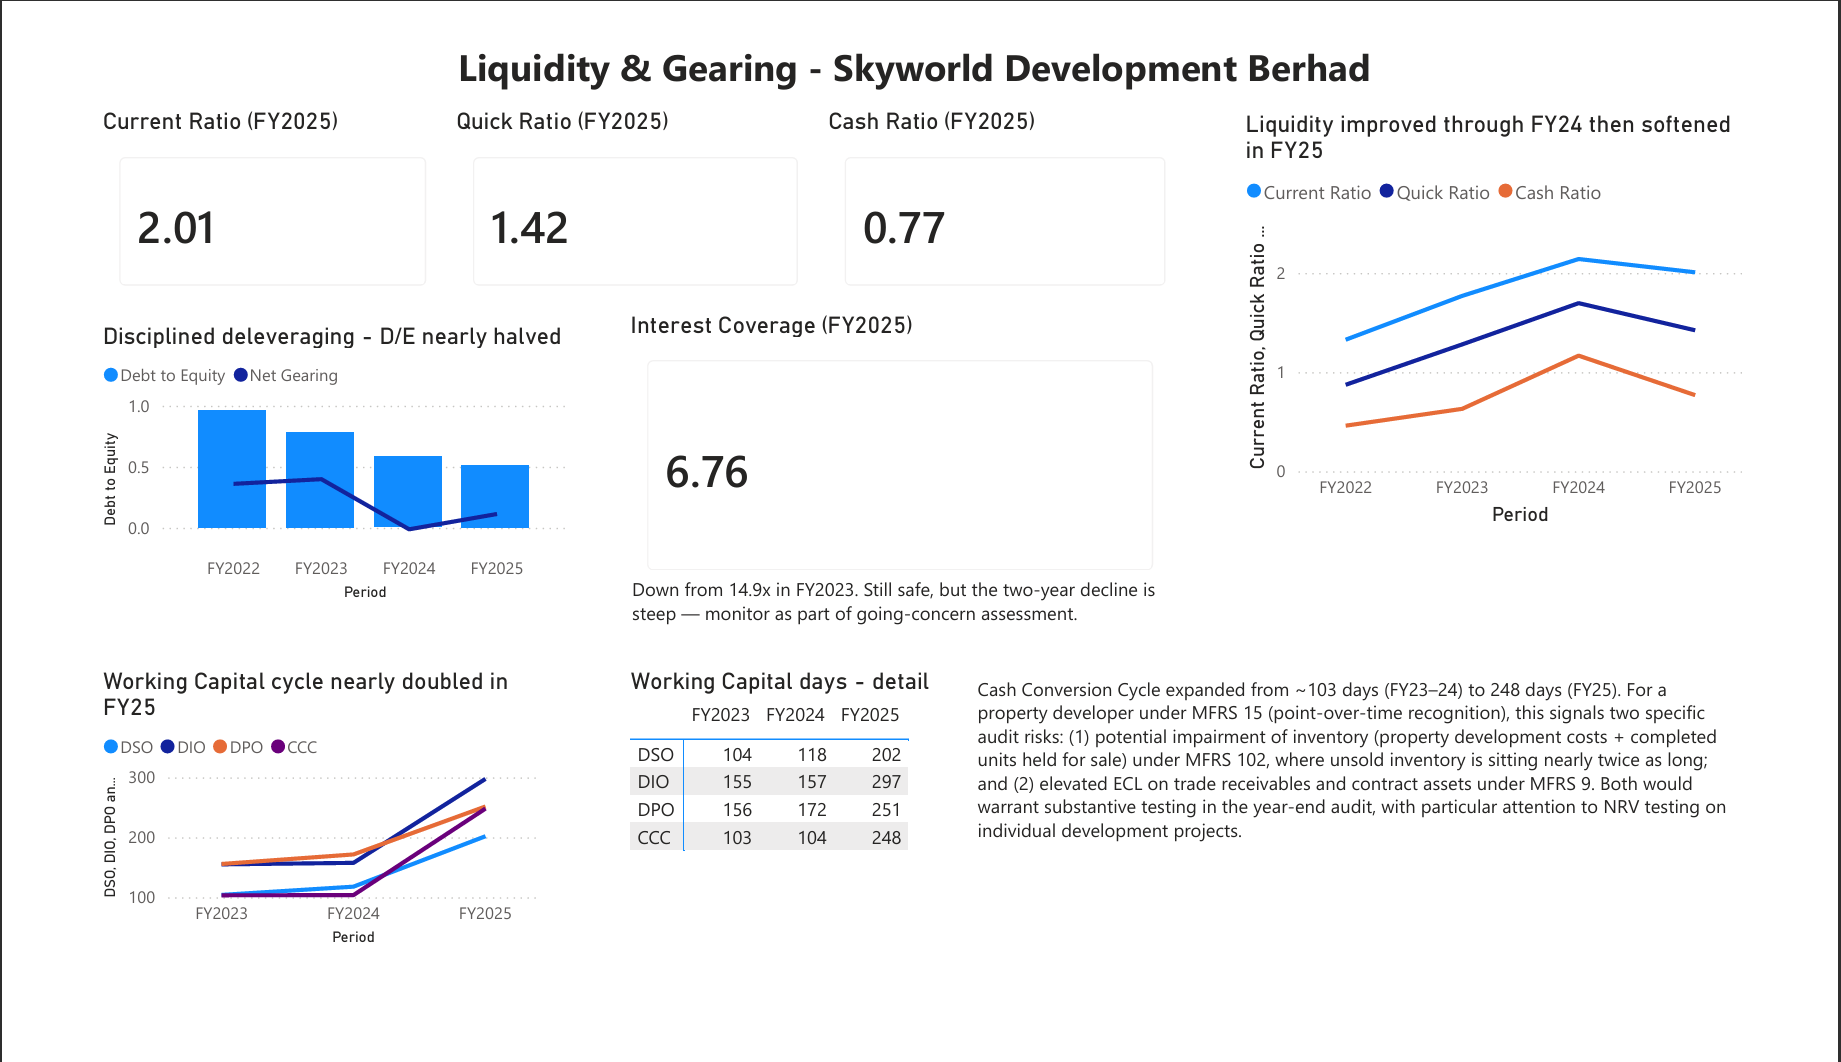

The page's visual inventory and layout, read from the dashboard file:
{"tool":"powerbi","page":{"name":"Liquidity & Gearing","canvas":[1280,720],"ordinal":2},"visuals":[{"type":"textbox","box":[301.3,0,677.4,53.2],"z":0},{"type":"cardVisual","title":"Current Ratio (FY2025)","fields":{"Data":["Raw Data.Current Ratio"]},"box":[43.5,53.2,255.9,146.7],"z":0,"group":"g1"},{"type":"cardVisual","title":"Interest Coverage (FY2025)","fields":{"Data":["Raw Data.Interest Coverage"]},"box":[425.8,200,400,206.5],"z":0,"group":"g2"},{"type":"group","id":"g1","title":"Group 1","box":[43.5,53.2,790.3,146.8],"z":1000},{"type":"cardVisual","title":"Quick Ratio (FY2025)","fields":{"Data":["Raw Data.Quick Ratio"]},"box":[299.3,53.3,268.8,146.8],"z":1000,"group":"g1"},{"type":"textbox","box":[426.9,388,400,51.6],"z":1000,"group":"g2"},{"type":"cardVisual","title":"Cash Ratio (FY2025)","fields":{"Data":["Raw Data.Cash Ratio"]},"box":[568.1,53.3,265.9,146.8],"z":2000,"group":"g1"},{"type":"lineChart","title":"Liquidity improved through FY24 then softened in FY25","fields":{"Category":["Period.Period"],"Y":["Raw Data.Current Ratio","Raw Data.Quick Ratio","Raw Data.Cash Ratio"]},"box":[871,54.8,369.4,304.8],"z":2000},{"type":"lineStackedColumnComboChart","title":"Disciplined deleveraging - D/E nearly halved","fields":{"Category":["Period.Period"],"Y":["Raw Data.Debt to Equity"],"Y2":["Raw Data.Net Gearing"]},"box":[43.5,208.1,346.8,206.5],"z":3000},{"type":"group","id":"g2","title":"Group 2","box":[425.8,200,401.6,240.3],"z":4000},{"type":"lineChart","title":"Working Capital cycle nearly doubled in FY25","fields":{"Category":["Period.Period"],"Y":["Raw Data.DSO","Raw Data.DIO","Raw Data.DPO","Raw Data.CCC"]},"box":[43.5,458.1,325.8,206.5],"z":5000},{"type":"pivotTable","title":"Working Capital days - detail","fields":{"Columns":["Period.Period"],"Values":["Raw Data.DSO","Raw Data.DIO","Raw Data.DPO","Raw Data.CCC"]},"box":[425.8,458.1,237.1,145.2],"z":6000},{"type":"textbox","box":[677.4,459.7,562.9,154.8],"z":7000}]}

Visuals, with their boxes in screenshot pixels (x1, y1, x2, y2), scaled from the page's 1280x720 canvas onto the 1841x1062 screenshot:
textbox: (433, 0, 1408, 78)
"Current Ratio (FY2025)" cardVisual: (63, 78, 431, 295)
"Interest Coverage (FY2025)" cardVisual: (612, 295, 1188, 600)
"Group 1" group: (63, 78, 1199, 295)
"Quick Ratio (FY2025)" cardVisual: (430, 79, 817, 295)
textbox: (614, 572, 1189, 648)
"Cash Ratio (FY2025)" cardVisual: (817, 79, 1200, 295)
"Liquidity improved through FY24 then softened in FY25" lineChart: (1253, 81, 1784, 530)
"Disciplined deleveraging - D/E nearly halved" lineStackedColumnComboChart: (63, 307, 561, 612)
"Group 2" group: (612, 295, 1190, 649)
"Working Capital cycle nearly doubled in FY25" lineChart: (63, 676, 531, 980)
"Working Capital days - detail" pivotTable: (612, 676, 953, 890)
textbox: (974, 678, 1784, 906)
